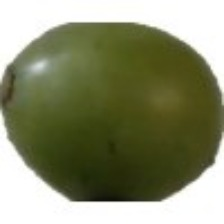grapes: (23, 25, 181, 224)
